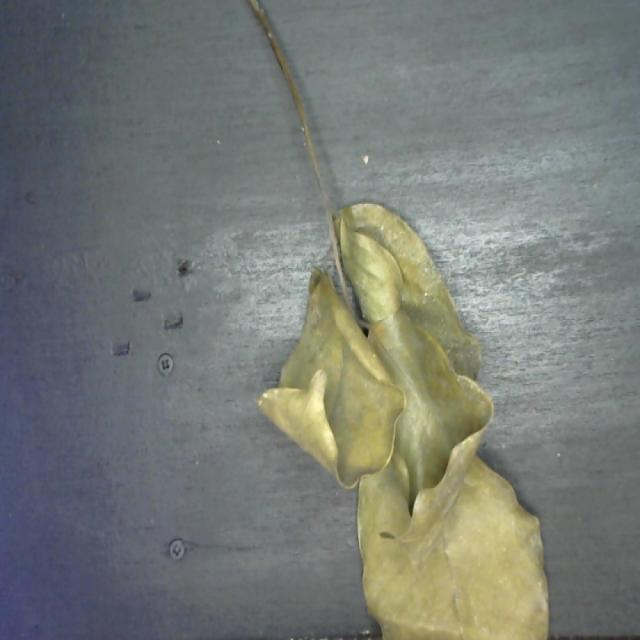biodegradable: (259, 188, 555, 640)
